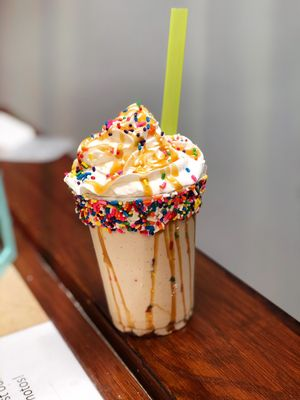sushi: (63, 103, 209, 236)
